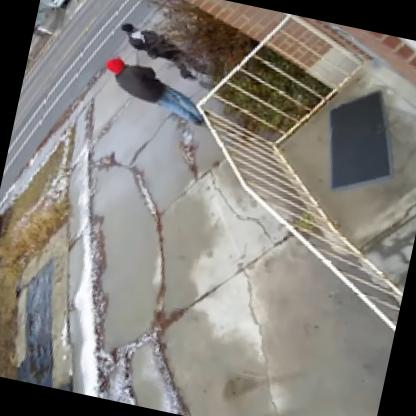Human Body: (93, 54, 216, 132), (104, 15, 198, 70)
